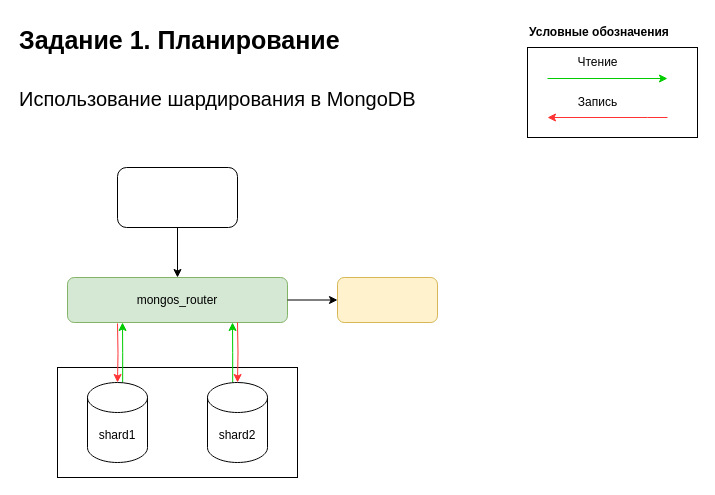
Image size: 715x495. Some labels were removed from this diagram. Each missing label, with the centre of its shape:
"configSrv" belongs at (x=387, y=299).
"pymongo-api" belongs at (x=177, y=197).
